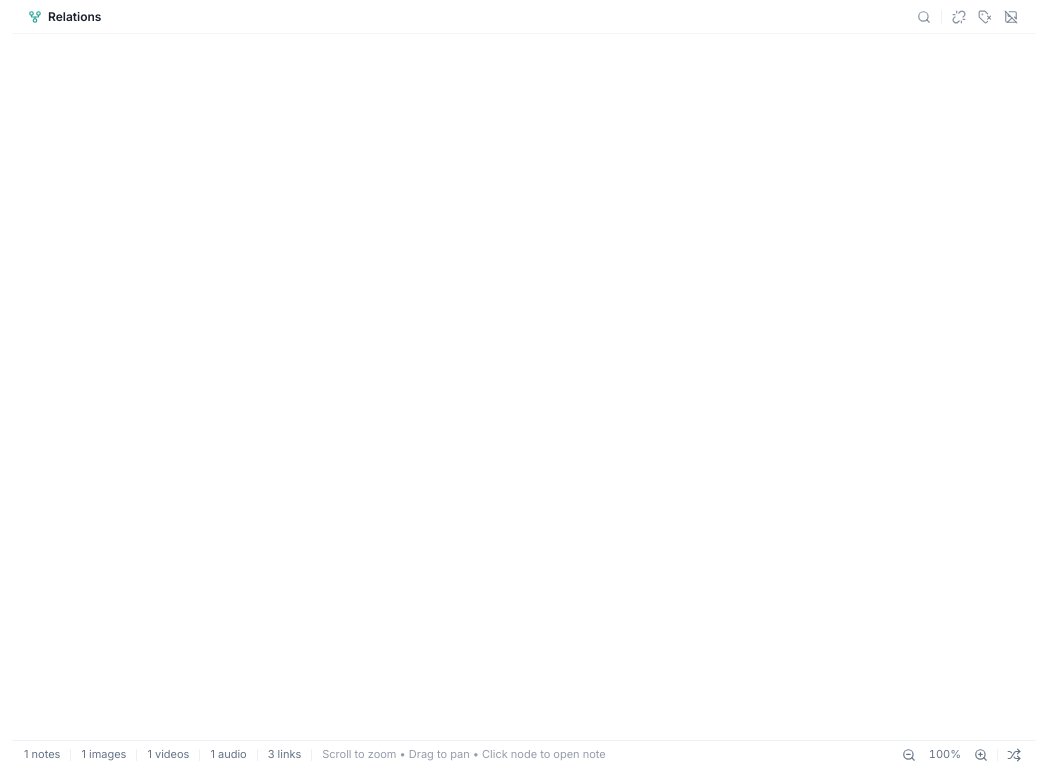
Test: RelationsView › renders status bar with video, audio, and image counts and toggles them
Expected: the text "1 notes" is shown, [24,746,60,763]
Expected: the text "1 images" is shown, [81,746,126,763]
Note: Toggle off
Click the button named "Hide media in graph". click: point(1011, 16)
box: [1000,6,1022,28]
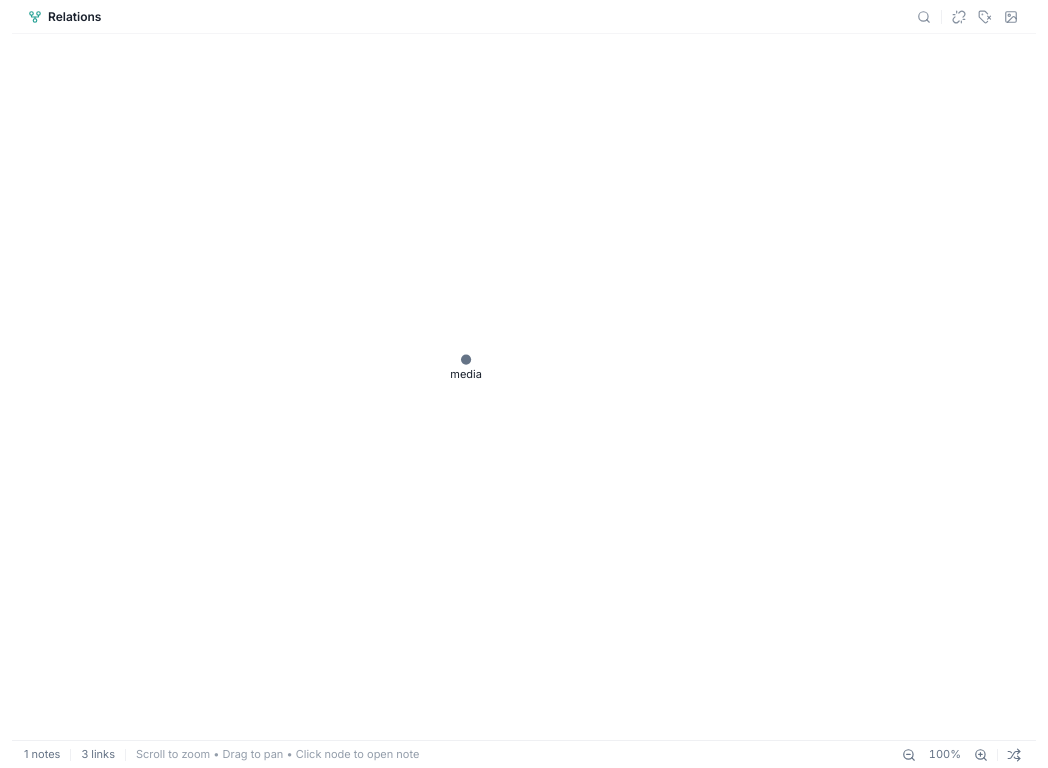
Expected: the text "1 images" is gone
Expected: the text "1 videos" is gone
Expected: the text "1 audio" is gone
